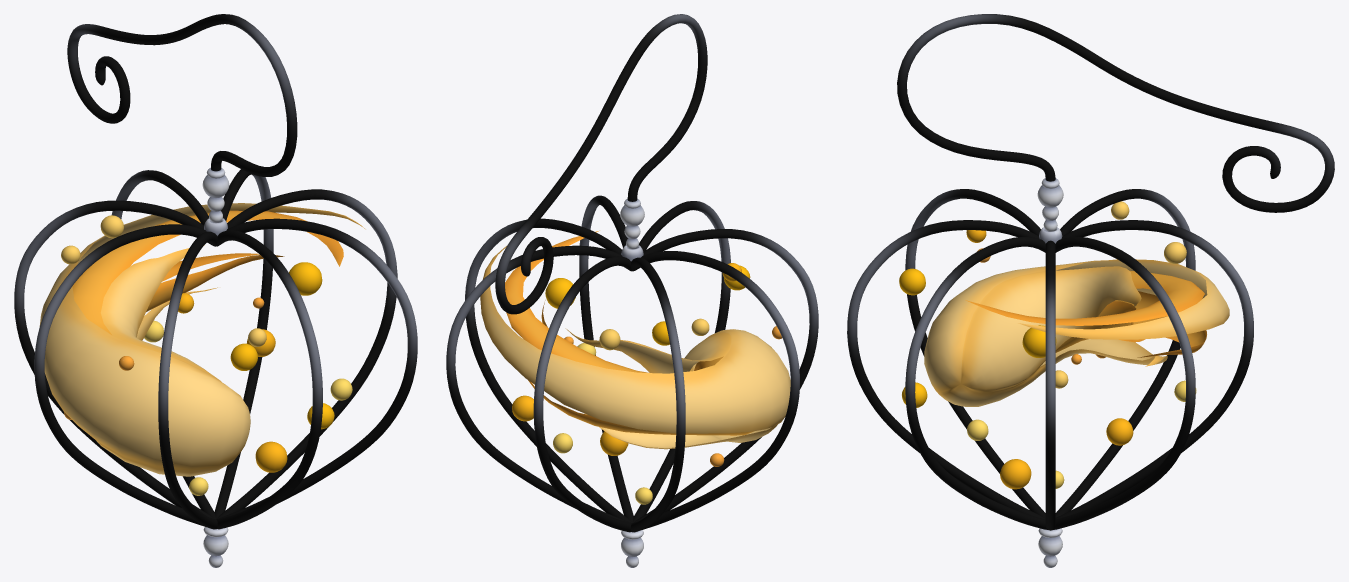
3 renders of one model, left to right at view 1: azimuth 30°, elevation 25°; view 2: azimuth 150°, elevation 25°; view 3: azimuth 270°, elevation 25°, orthographic. The views are drawn at different scales.
Parts seen in each view (by area): view 1: Body (×2); view 2: Body (×2); view 3: Body (×2).
Boxes of the visible parts, x1,y1,x2,y2 form: Body (×2): (14, 14, 417, 567); Body (×2): (446, 14, 818, 567); Body (×2): (847, 14, 1334, 567).
Size of the model in its own units: 10.59 by 12.69 by 15.88.
